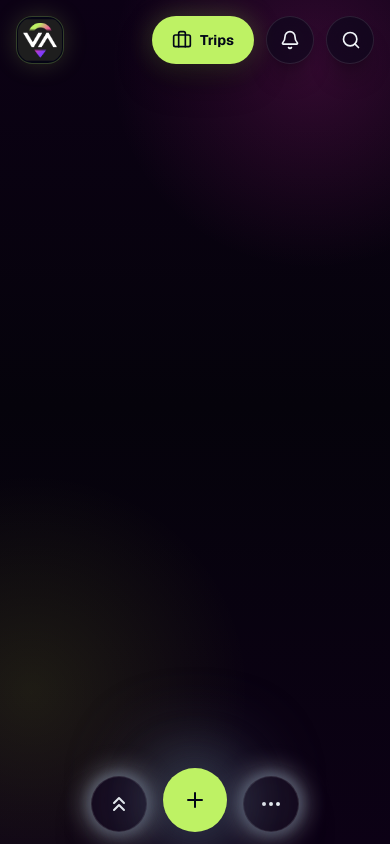
Scenario: mobile navigation chrome parity › opens the complete base and more menus while enabling attendee event routes
The width and height of the screenshot is (390, 844).
Step 1. Click the button named "Open trip views" → (119, 804), box [91, 776, 147, 832]
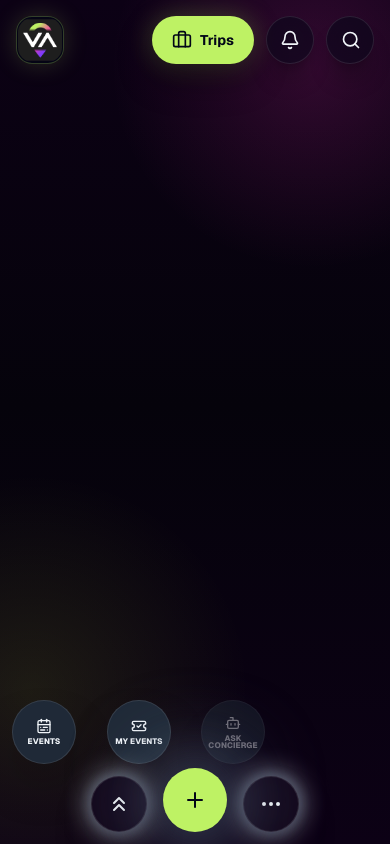
Expected: the button "Events" is enabled
Step 2. Click the button "Events" → (44, 732), box [12, 700, 76, 764]
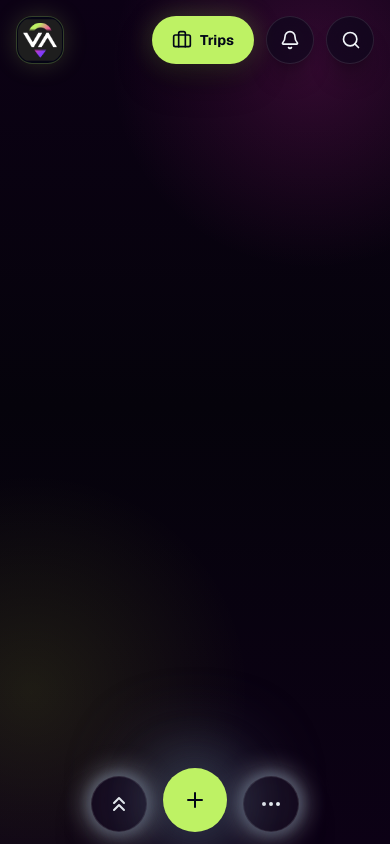
Step 3. Click the button named "Open trip views" → (119, 804), box [91, 776, 147, 832]
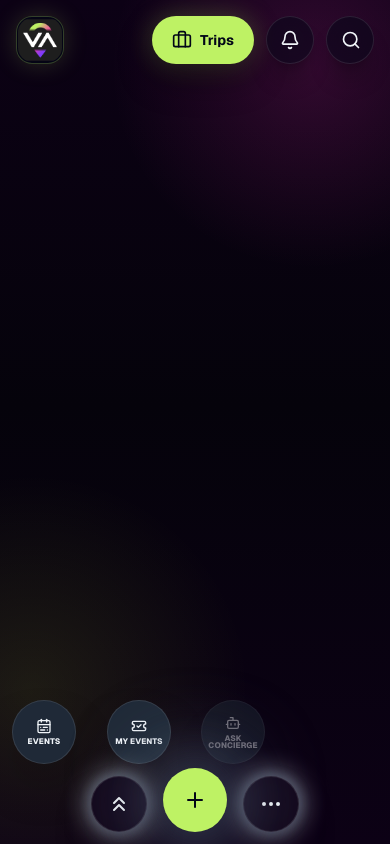
Expected: the button "My Events" is enabled
Step 4. Click the button "My Events" → (138, 732), box [106, 700, 170, 764]
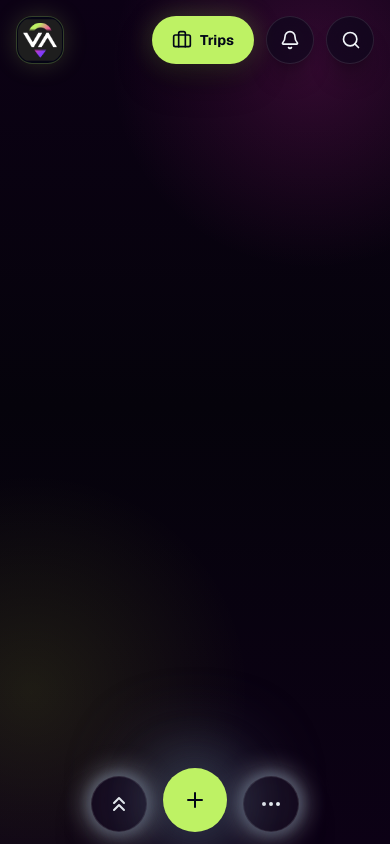
Step 5. Click the button named "Open trip views" → (119, 804), box [91, 776, 147, 832]
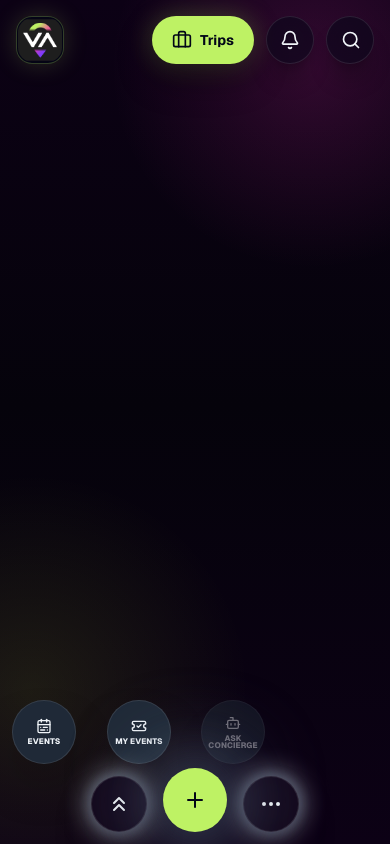
Expected: the button with aria-label "Ask Concierge coming soon" is disabled, [201, 700, 265, 764]
Step 6. Click the button named "Open more options" → (271, 804), box [243, 776, 299, 832]
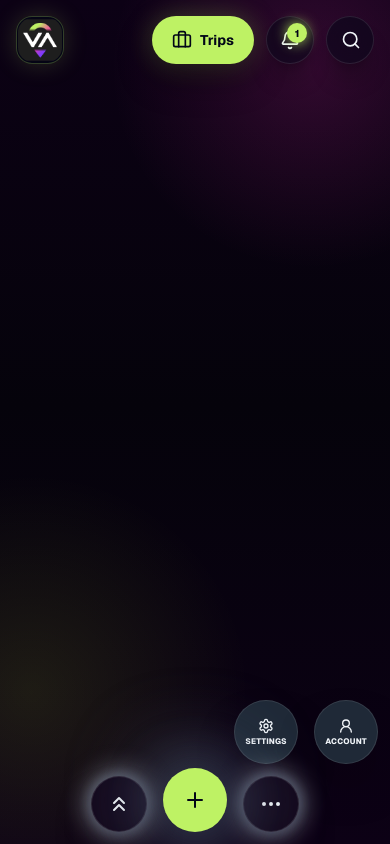
Expected: the button "Settings" is enabled, [234, 700, 298, 764]
Expected: the button "Account" is enabled, [314, 700, 378, 764]
